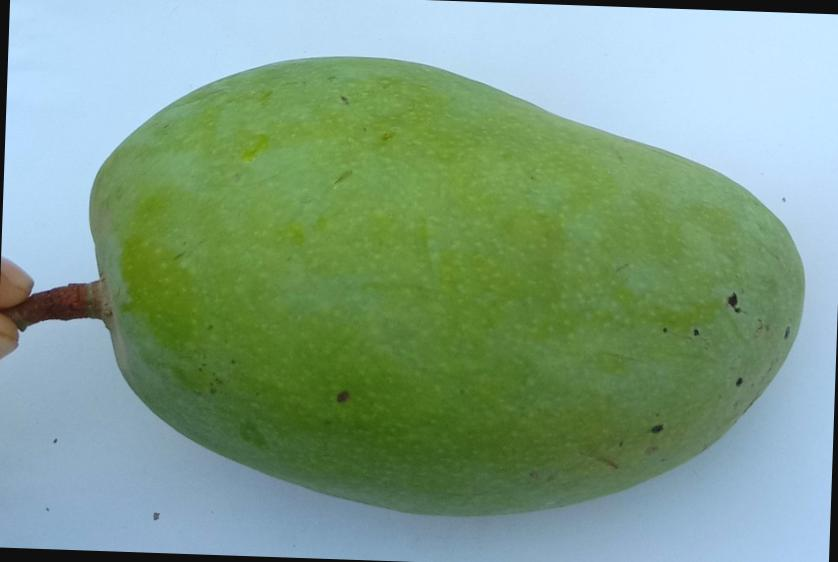Mango Unripe: (43, 19, 827, 551)
